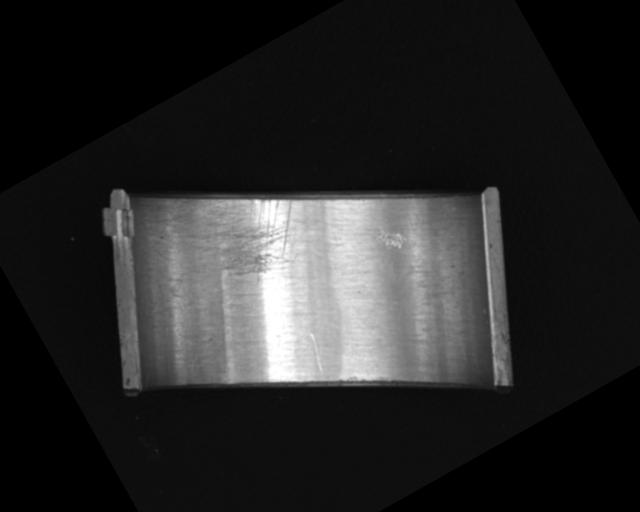bruise: (369, 221, 409, 259)
nick: (301, 332, 333, 376)
scratch: (174, 150, 320, 301)
